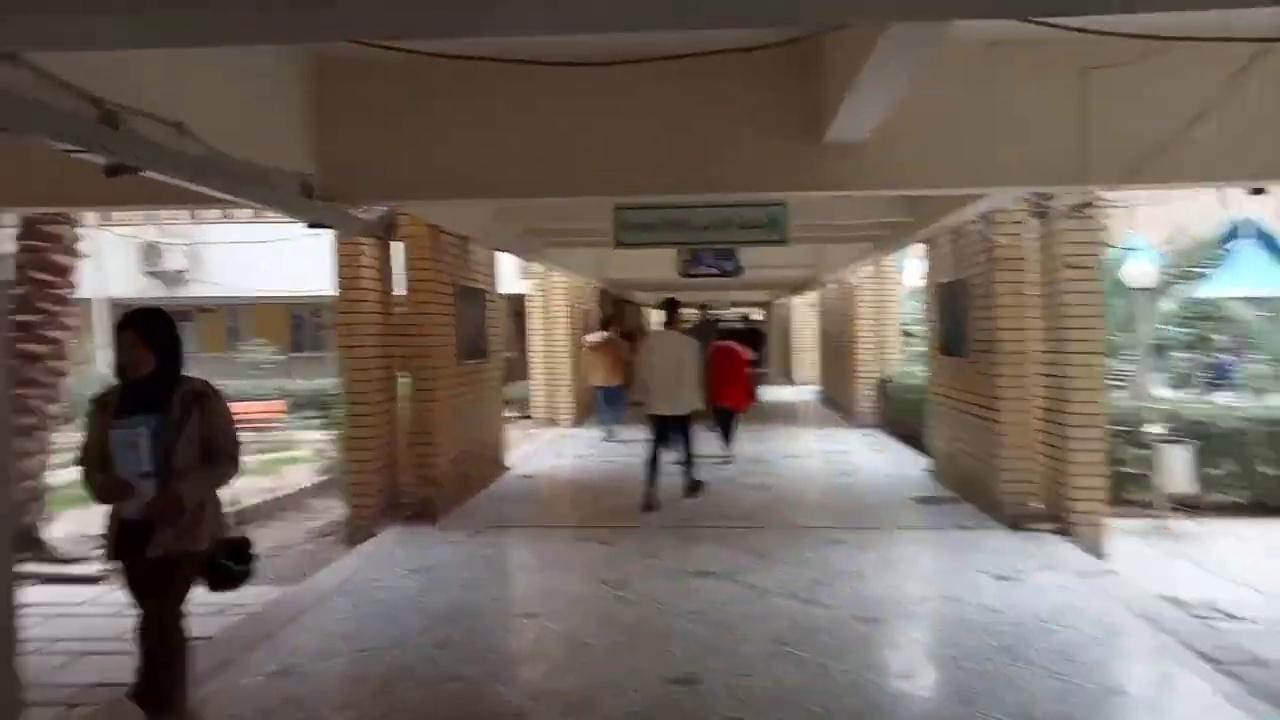person: (79, 305, 241, 718), (629, 296, 705, 511), (704, 325, 760, 464), (579, 312, 633, 441)
tree: (1101, 207, 1278, 511), (2, 210, 85, 560)
